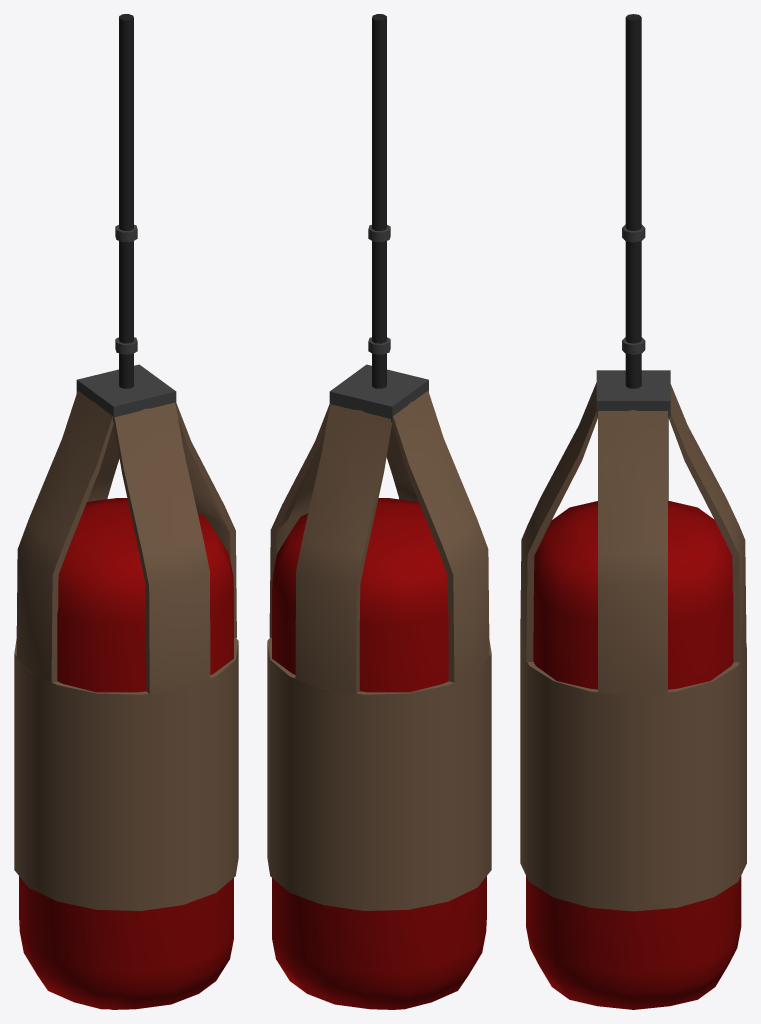
File: PunchingBag.FBX
3 renders of one model, left to right at view 1: azimuth 30°, elevation 25°; view 2: azimuth 150°, elevation 25°; view 3: azimuth 270°, elevation 25°, orthographic.
Visible parts, largest first — view 1: PunchingBag; view 2: PunchingBag; view 3: PunchingBag.
Part boxes in pixels (box(x1,y1,x2,y2)): PunchingBag: box(14, 14, 238, 1009); PunchingBag: box(267, 14, 491, 1009); PunchingBag: box(520, 14, 746, 1009).
Size of the model in its own units: 117 by 551 by 117.
